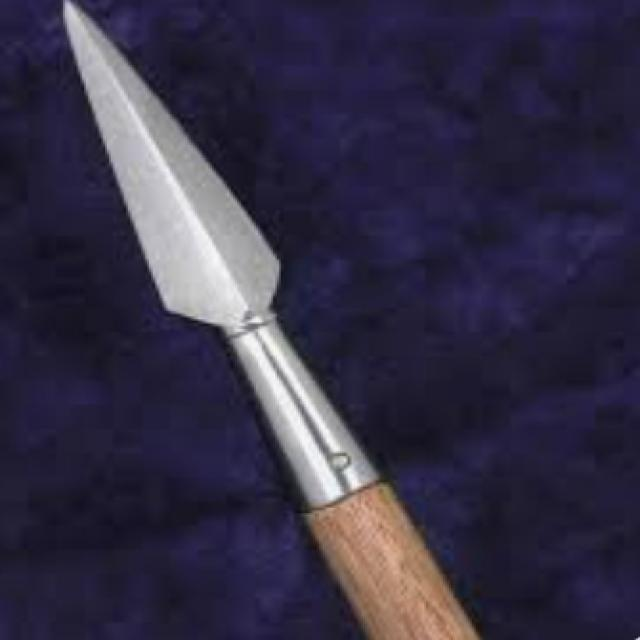spear: (32, 0, 495, 632)
